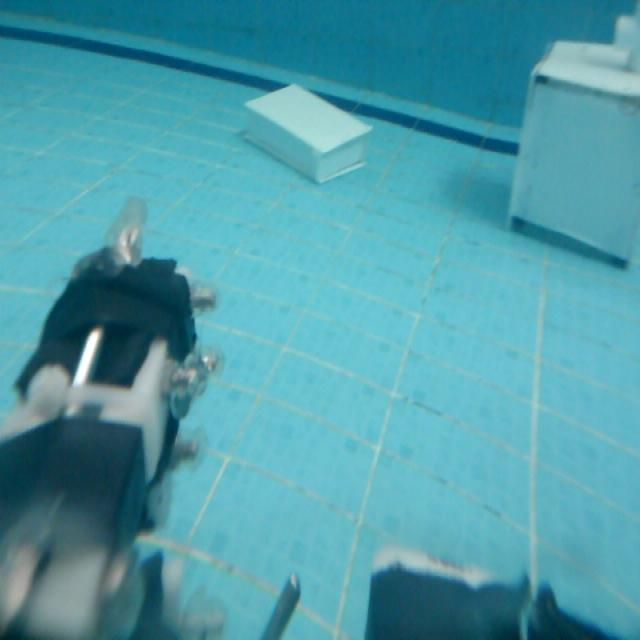Cube: (505, 32, 638, 281)
Cuboid: (242, 80, 373, 184)
